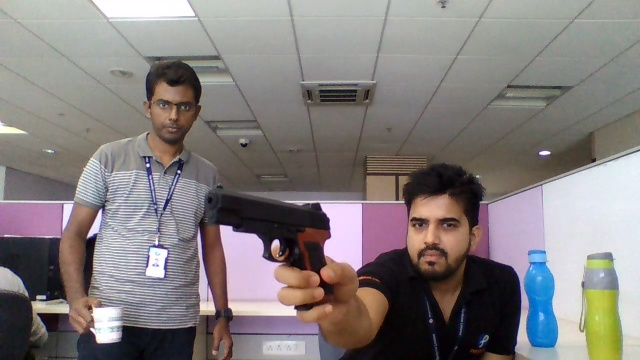gun: (205, 181, 332, 267)
